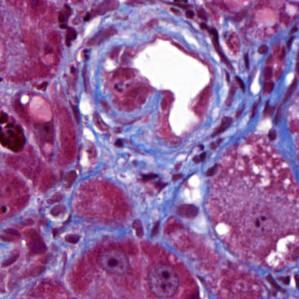inflammation: (130, 167, 177, 202), (206, 112, 241, 144), (267, 270, 299, 295)
